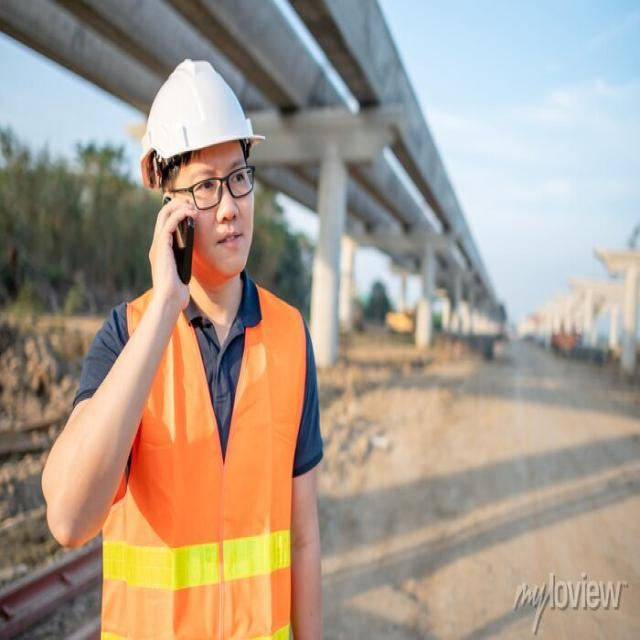goggles: (157, 165, 265, 213)
helmet: (129, 54, 266, 165)
vest: (98, 282, 299, 626)
